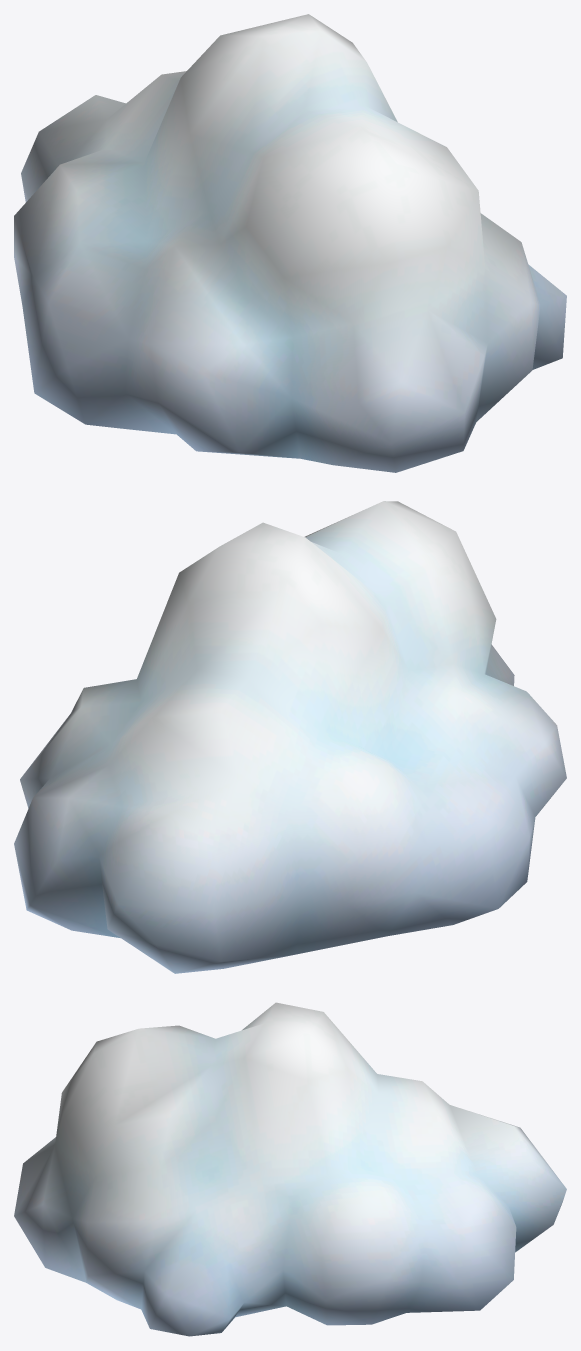
Rendered from cloud_2.fbx.
3 views of the same model, one above another, from view 1: azimuth 30°, elevation 25°; view 2: azimuth 150°, elevation 25°; view 3: azimuth 270°, elevation 25° (orthographic). The views are drawn at different scales.
Visible parts, largest first — view 1: cloud_2; view 2: cloud_2; view 3: cloud_2.
Boxes of the visible parts, <box> form: cloud_2: <box>14,14,566,472</box>; cloud_2: <box>14,501,566,973</box>; cloud_2: <box>14,1002,566,1336</box>.
Bounding box in the file's own units: 17.3 × 12.37 × 23.63.
